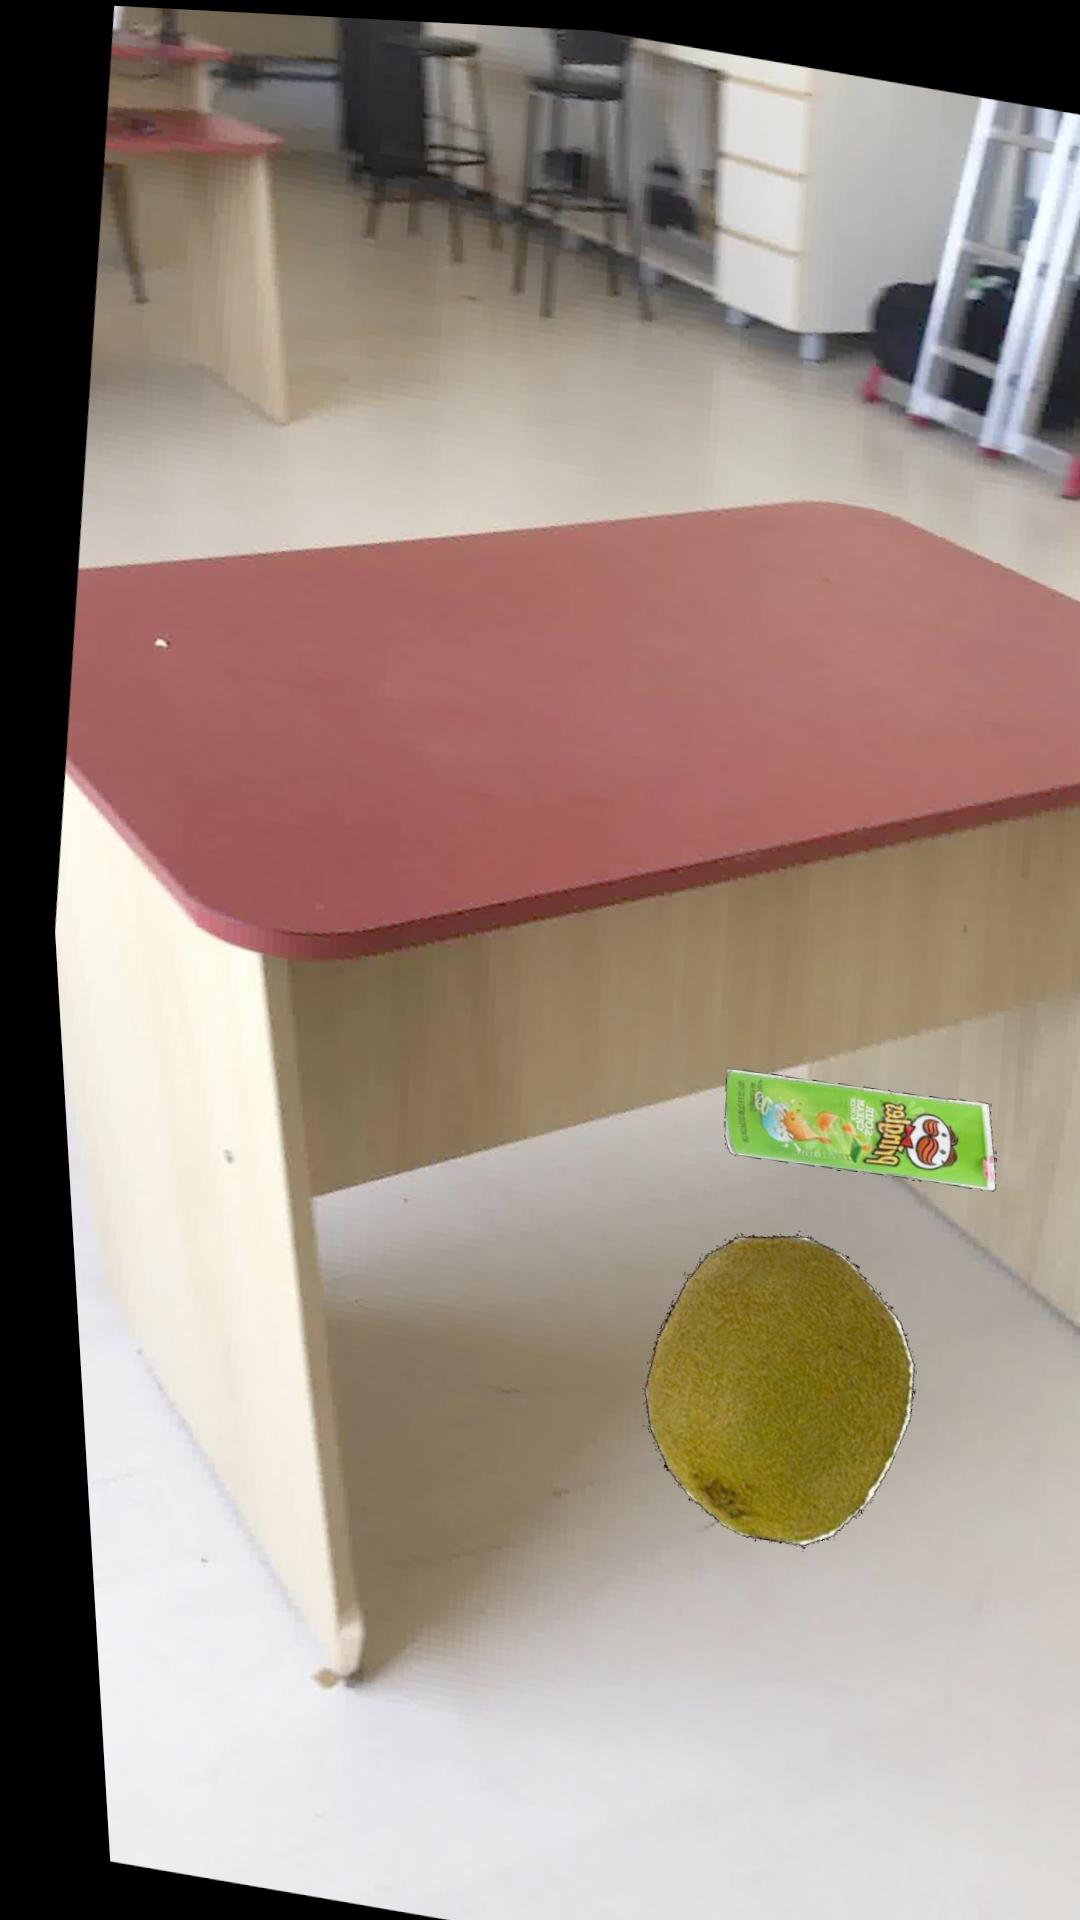kiwi: (625, 1225, 897, 1538)
pringles: (708, 1059, 981, 1179)
